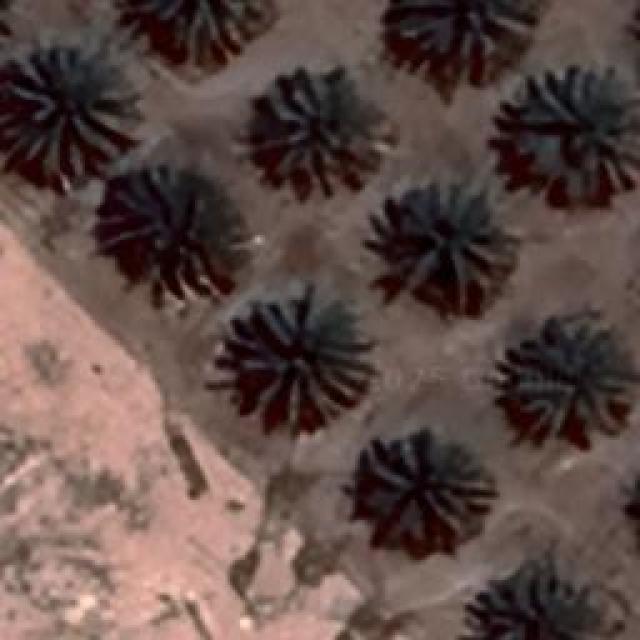PalmTree: (230, 288, 375, 430), (105, 165, 245, 298), (5, 42, 135, 180), (380, 175, 512, 310), (512, 64, 638, 198), (255, 70, 390, 192), (357, 430, 495, 545), (502, 318, 632, 440), (471, 567, 601, 640), (390, 0, 535, 55), (142, 0, 269, 62)
